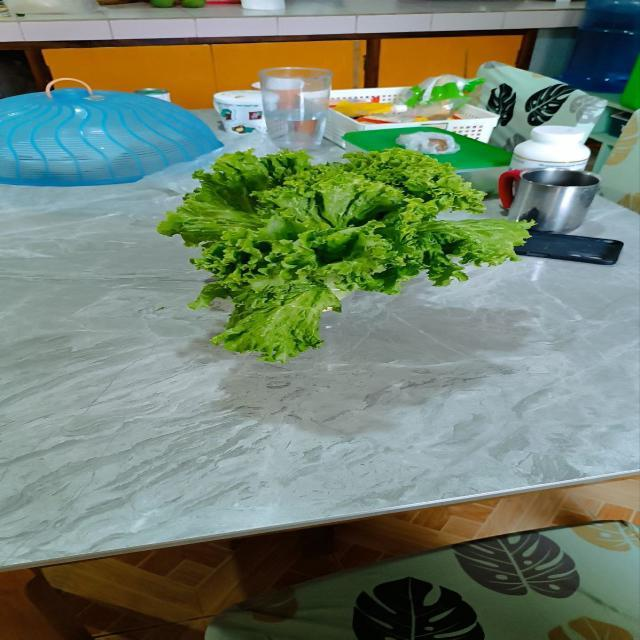Lettuce-Ready-to-Harvest: (158, 150, 529, 361)
